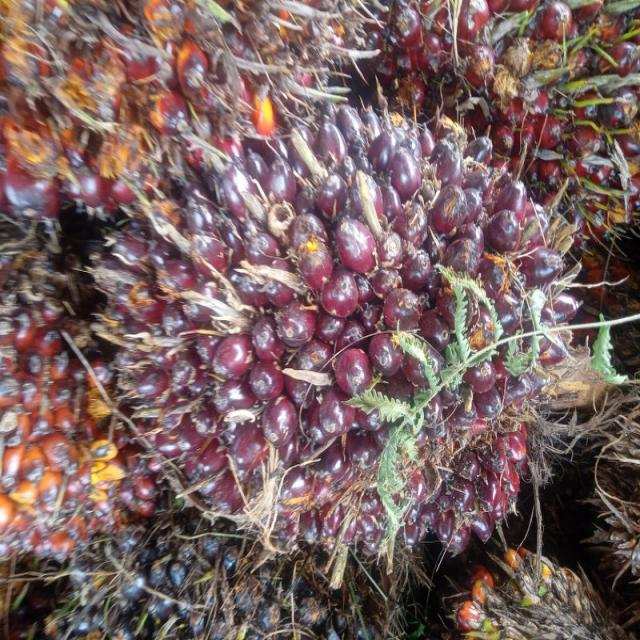fraksi 1: (54, 0, 604, 574)
